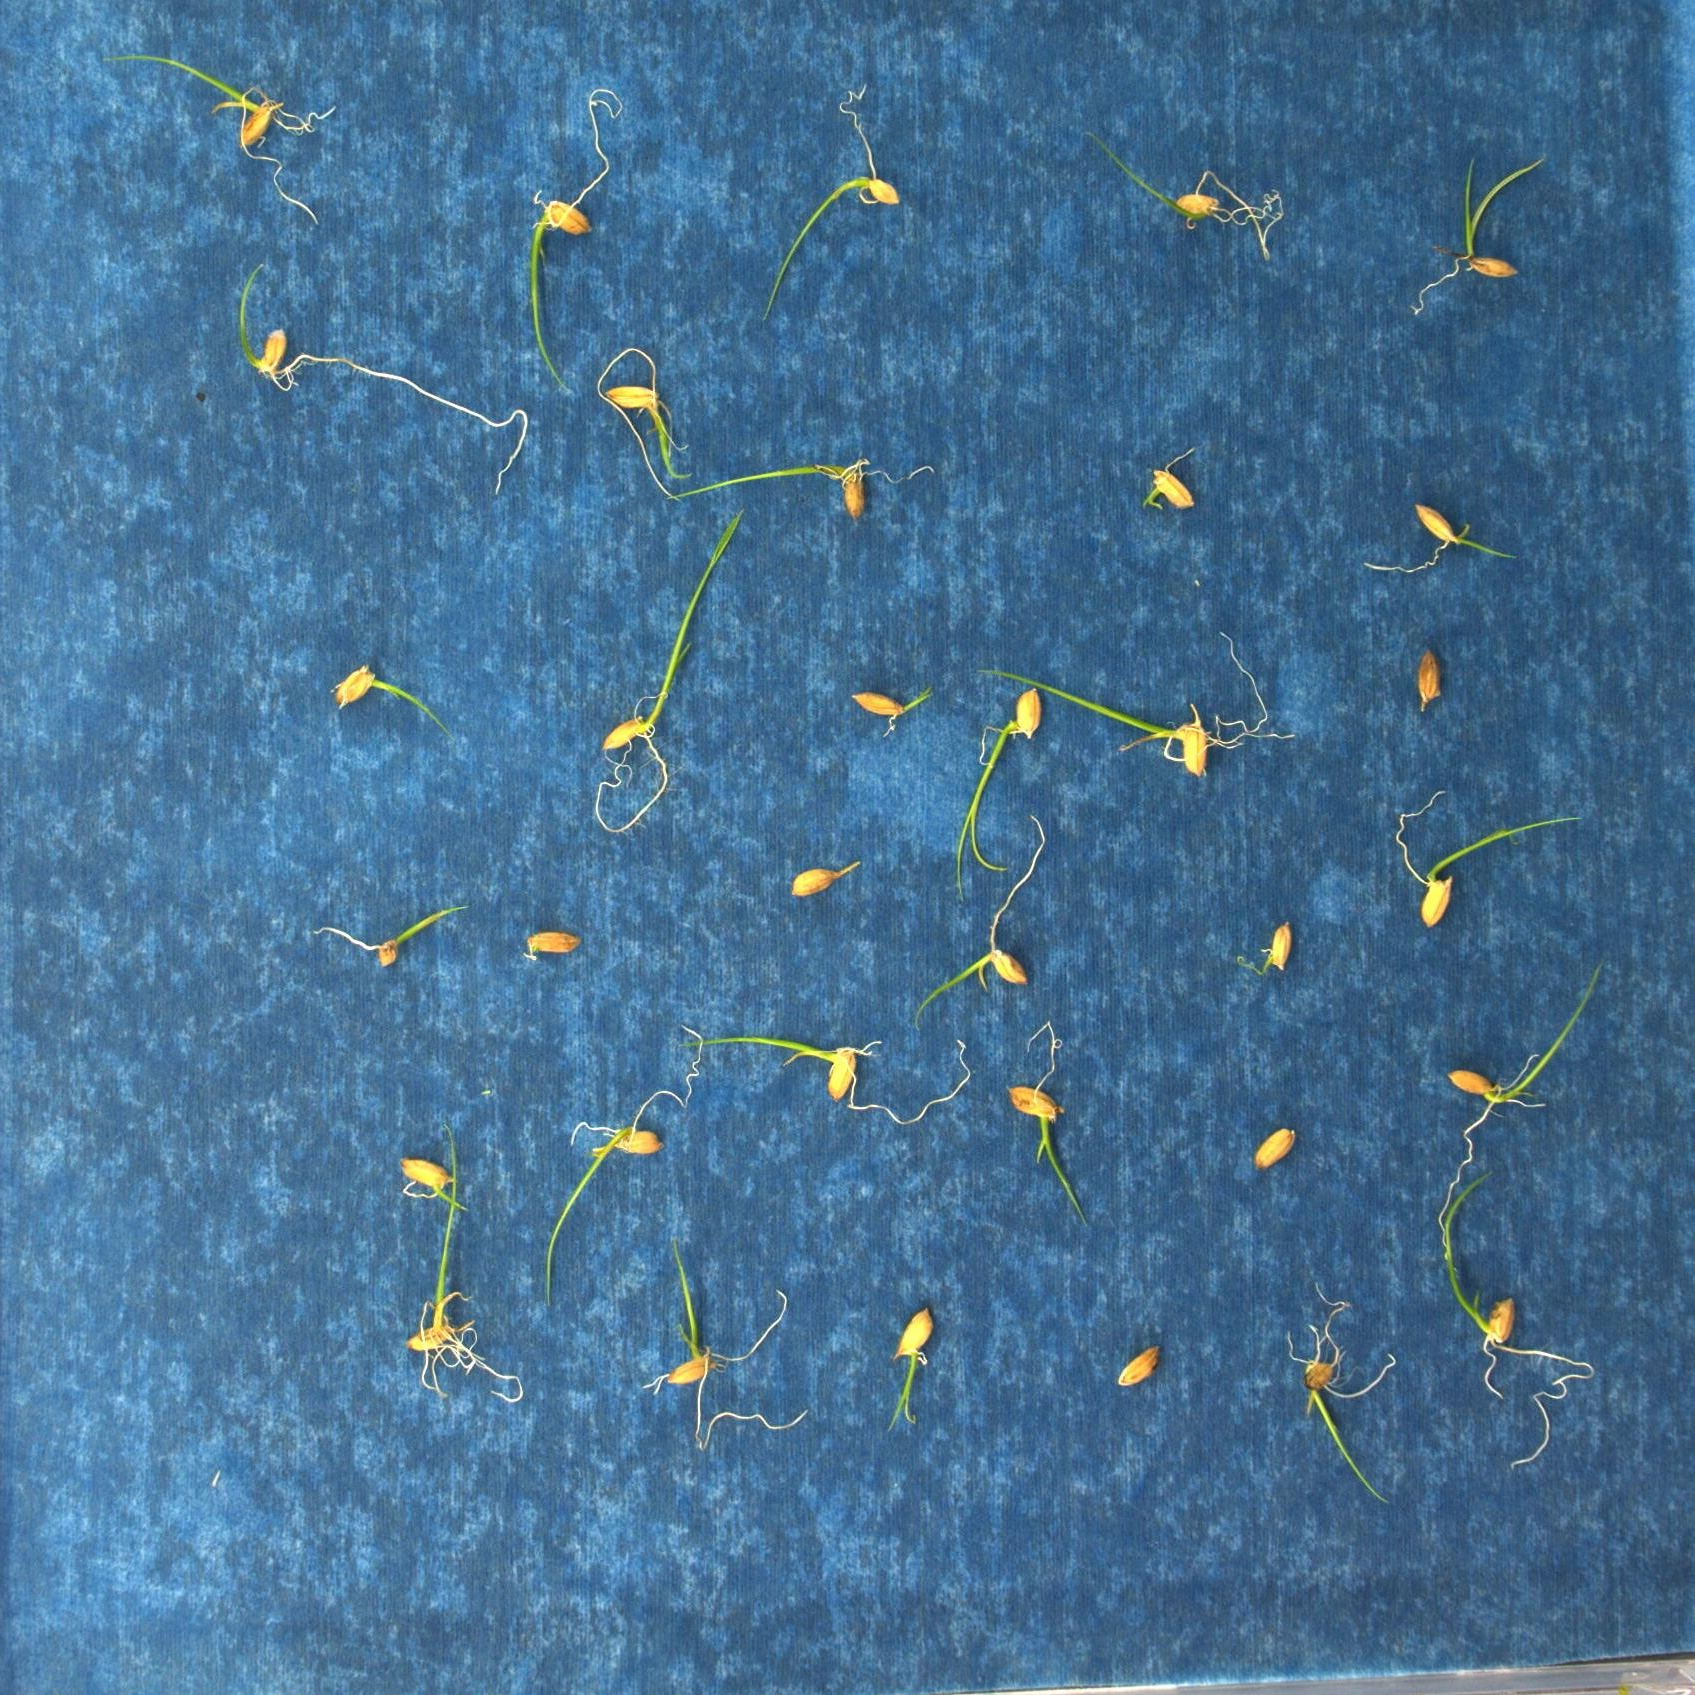not sprout: (792, 858, 866, 899), (1118, 1343, 1164, 1388), (1256, 1125, 1298, 1173), (1416, 647, 1444, 714), (525, 931, 584, 961)
sprout: (241, 264, 526, 497), (1437, 958, 1605, 1263), (591, 508, 745, 832), (975, 627, 1298, 778), (1444, 1170, 1596, 1470), (545, 1024, 705, 1307), (106, 54, 337, 227), (641, 1232, 812, 1451), (761, 81, 900, 320), (407, 1122, 525, 1405), (914, 813, 1046, 1034), (528, 87, 622, 390), (1085, 130, 1287, 264), (1397, 789, 1583, 930), (675, 1038, 973, 1124), (1288, 1281, 1394, 1507), (1412, 154, 1548, 314), (666, 456, 941, 528), (955, 688, 1043, 905), (1004, 1020, 1090, 1228), (598, 348, 692, 498), (1364, 501, 1520, 574), (310, 900, 469, 970), (334, 664, 458, 744), (886, 1305, 934, 1433), (851, 688, 938, 739), (400, 1155, 467, 1212), (1142, 445, 1198, 512), (1234, 917, 1293, 979)
